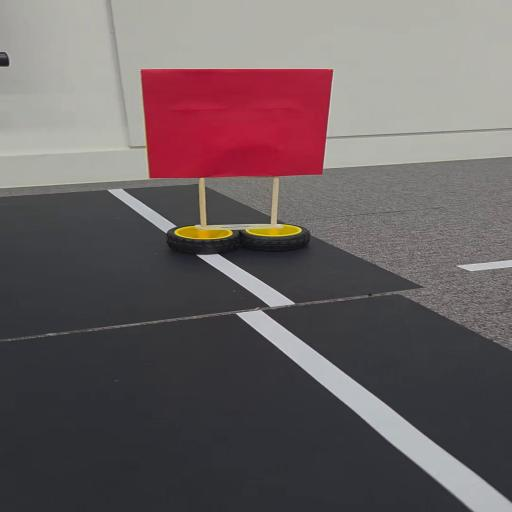Sign_A: (136, 68, 336, 251)
